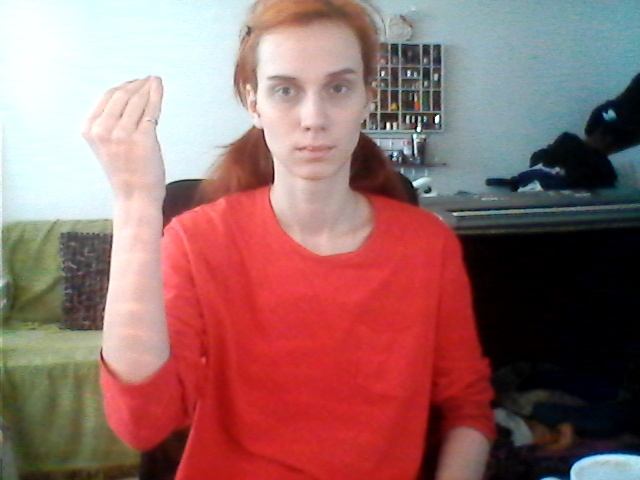domov: (71, 56, 287, 193)
